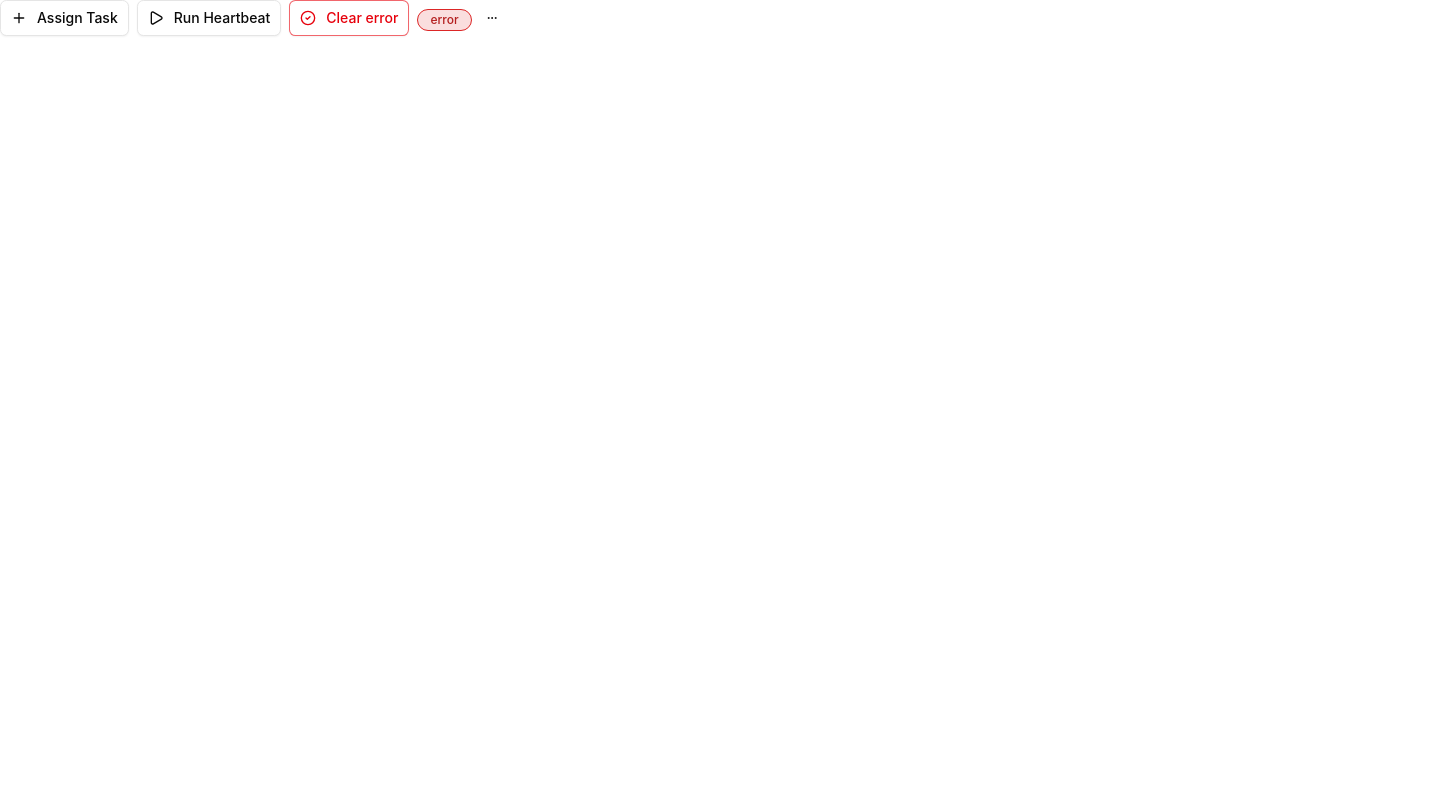
Scenario: AgentActionButtons › replaces the pause slot with Clear error for error agents
This screenshot has width=1440, height=810.
Click the button named "Open actions for Alpha Agent" at (492, 18), box [480, 6, 504, 30]
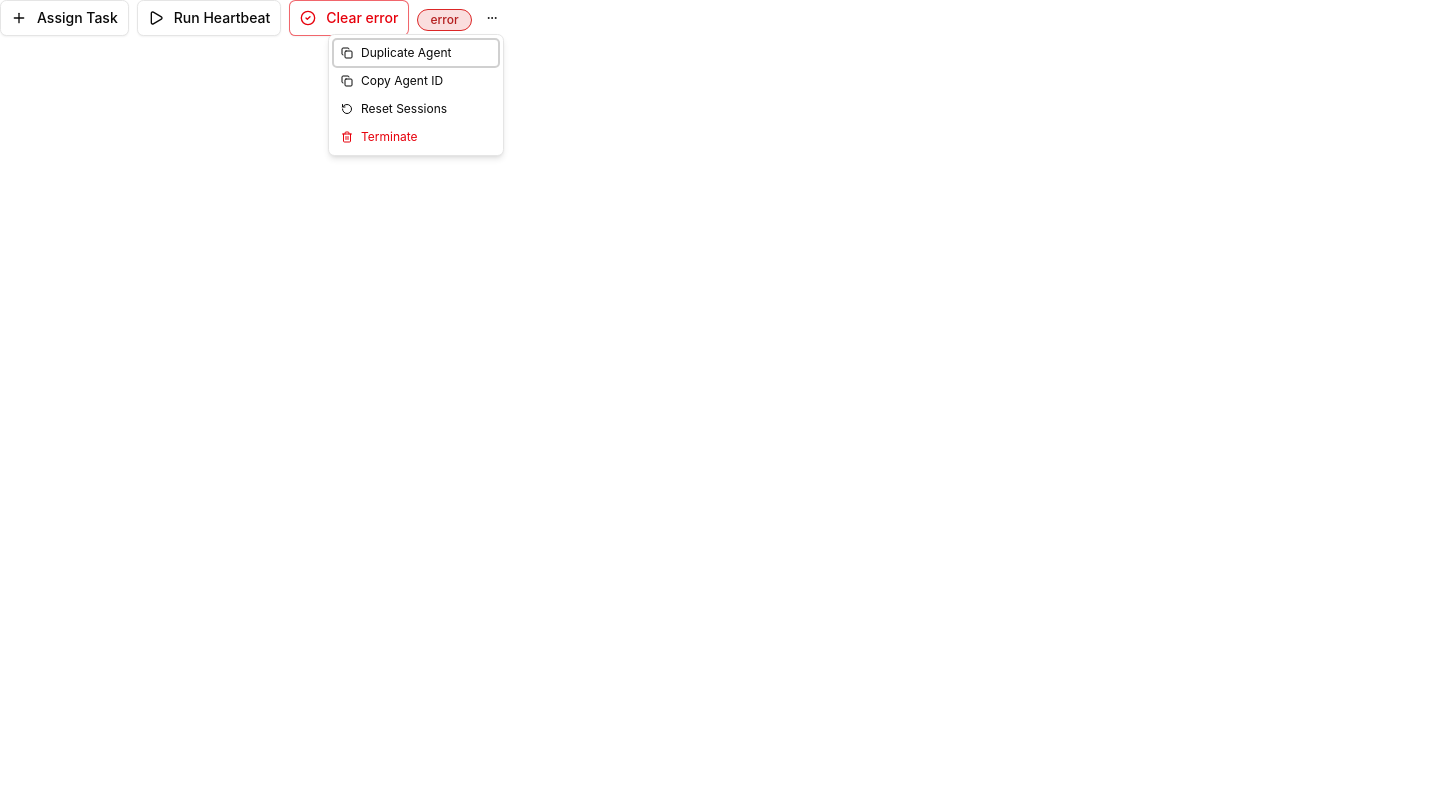
Result: the text "Reset Sessions" is shown at [333, 95, 499, 123]
